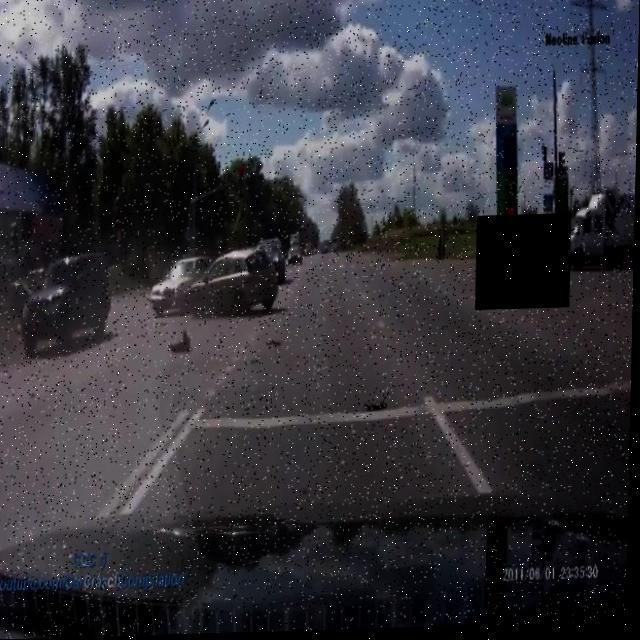multiple_accident: (125, 210, 289, 332)
